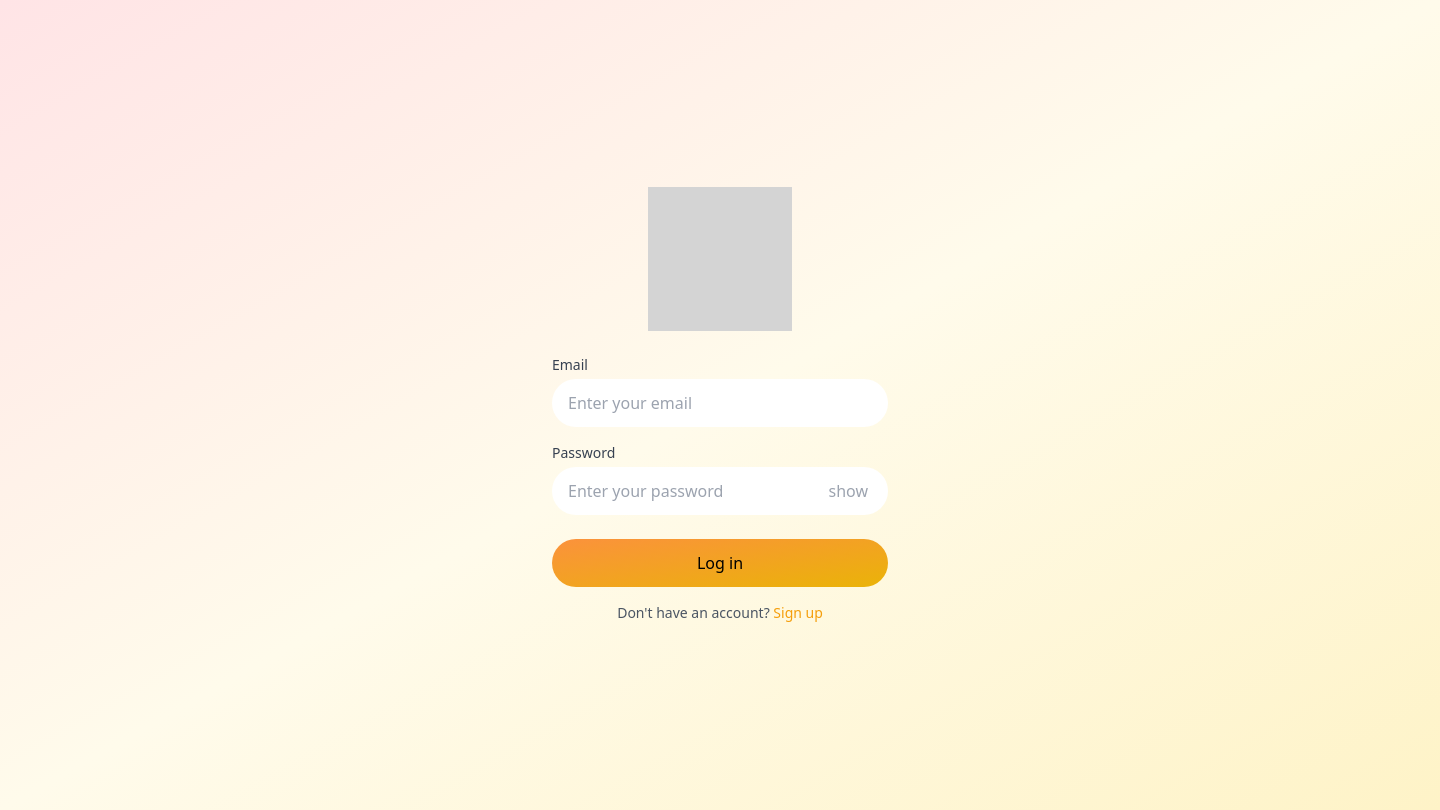
LoginPage › Form Validation › should show error when email is empty on submit
Type "password123" into the password field with placeholder "Enter your password" at [720, 491], box [552, 467, 888, 515]
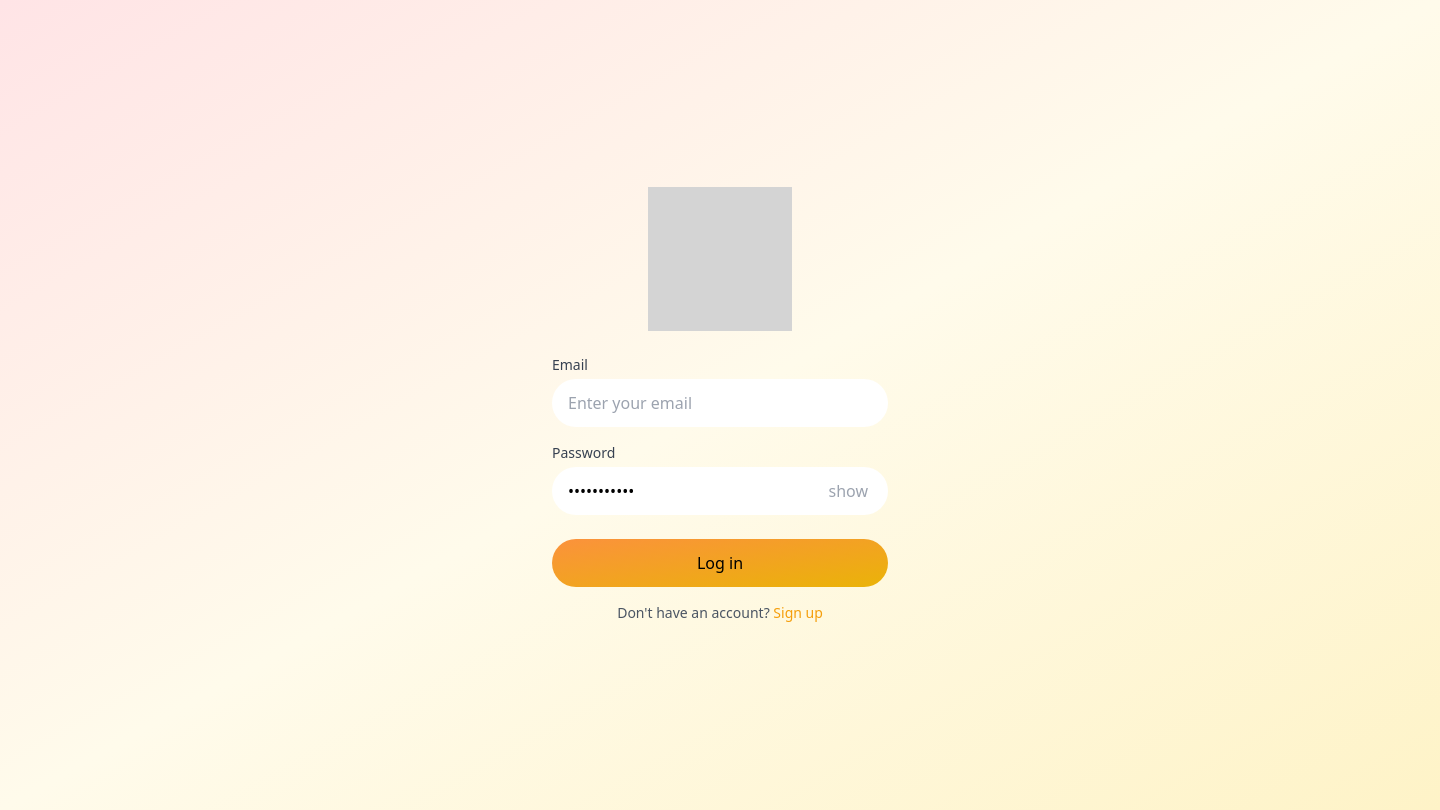
Click the button "Log in" at [720, 563], box [552, 539, 888, 587]
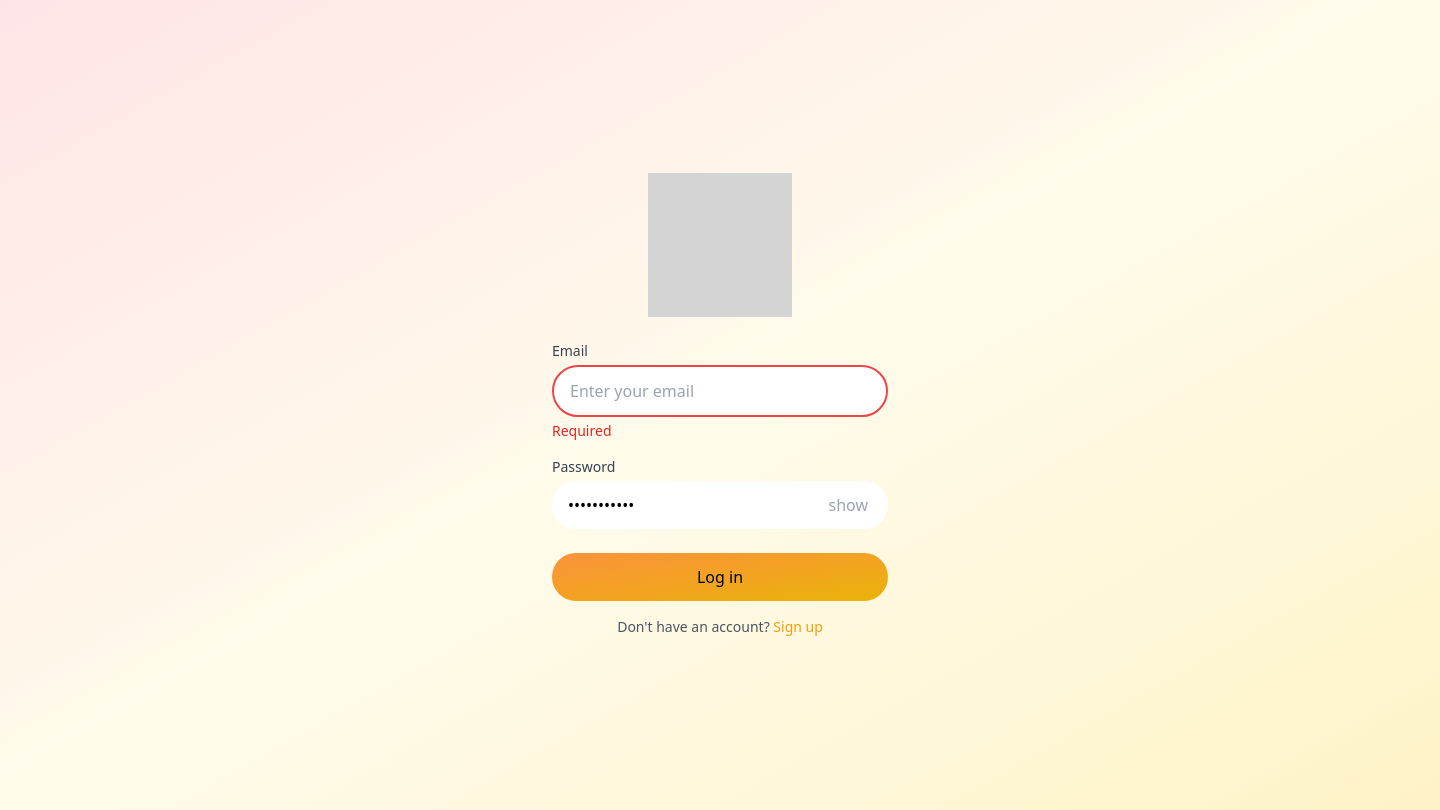
Expected: the text "Required" is shown once, [552, 421, 612, 440]
